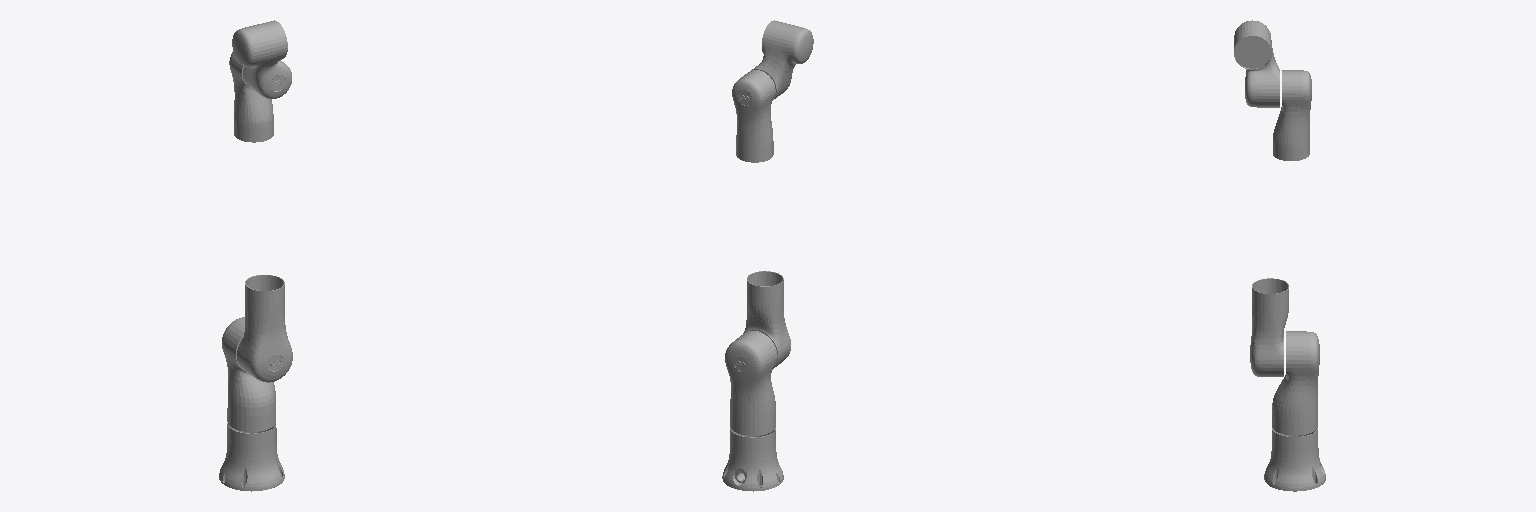
The robot description file, URDF, robot "A02L-MP":
<?xml version="1.0"?>
<!-- ======================================================================== -->
<!-- | Flexiv Rizon4 Arm (with approximated dynamic parameters)             | -->
<!-- ======================================================================== -->
<robot name="A02L-MP">
  <joint name="joint1" type="revolute">
    <parent link="base_link" />
    <child link="link1" />
    <origin rpy="0 0 3.141592653589793" xyz="0.0 0.0 0.155" />
    <axis xyz="0 0 1" />
    <limit effort="123" lower="-2.7925" upper="2.7925" velocity="2.0944" />
  </joint>
  <joint name="joint2" type="revolute">
    <parent link="link1" />
    <child link="link2" />
    <origin rpy="0 0 0" xyz="0.0 0.03 0.210" />
    <axis xyz="0 1 0" />
    <limit effort="123" lower="-2.2689" upper="2.2689" velocity="2.0944" />
  </joint>
  <joint name="joint3" type="revolute">
    <parent link="link2" />
    <child link="link3" />
    <origin rpy="0 0 0" xyz="0.0 0.035 0.205" />
    <axis xyz="0 0 1" />
    <limit effort="64" lower="-2.9671" upper="2.9671" velocity="2.4435" />
  </joint>
  <joint name="joint4" type="revolute">
    <parent link="link3" />
    <child link="link4" />
    <origin rpy="0 0 -3.141592653589793" xyz="-0.02 -0.03 0.19" />
    <axis xyz="0 1 0" />
    <limit effort="64" lower="-1.8675" upper="2.6878" velocity="2.4435" />
  </joint>
  <joint name="joint5" type="revolute">
    <parent link="link4" />
    <child link="link5" />
    <origin rpy="0 0 -3.141592653589793" xyz="-0.02 0.025 0.195" />
    <axis xyz="0 0 1" />
    <limit effort="39" lower="-2.9671" upper="2.9671" velocity="4.8869" />
  </joint>
  <joint name="joint6" type="revolute">
    <parent link="link5" />
    <child link="link6" />
    <origin rpy="0 0 0" xyz="0.0 0.03 0.19" />
    <axis xyz="0 1 0" />
    <limit effort="39" lower="-1.3963" upper="4.5379" velocity="4.8869" />
  </joint>
  <joint name="joint7" type="revolute">
    <parent link="link6" />
    <child link="link7" />
    <origin rpy="0 -1.5707963267948966 0" xyz="-0.055 0.070 0.11" />
    <axis xyz="0 0 1" />
    <limit effort="39" lower="-2.9671" upper="2.9671" velocity="4.8869" />
  </joint>
  <joint name="link7_to_flange" type="fixed">
    <parent link="link7" />
    <child link="flange" />
    <origin rpy="0 0 -3.141592653589793" xyz="0.0 0.0 0.081" />
  </joint>

  <link name="base_link">
    <inertial>
      <mass value="3.7" />
      <origin rpy="0 0 0" xyz="0.0 -0.0 0.09" />
      <inertia ixx="0.019" ixy="0.0" ixz="0.0" iyy="0.02" iyz="0.0" izz="0.009" />
    </inertial>
    <visual>
      <origin rpy="0 0 0" xyz="0 0 0" />
      <geometry>
        <mesh filename="meshes/visual/link0.obj" />
      </geometry>
      <material name="rizon_light_grey" />
    </visual>
    <collision>
      <origin rpy="0 0 0" xyz="0 0 0" />
      <geometry>
        <mesh filename="meshes/collision/link0.stl" />
      </geometry>
    </collision>
  </link>
  <link name="link1">
    <inertial>
      <mass value="3.7" />
      <origin rpy="0 0 0" xyz="0.0 0.01 0.15" />
      <inertia ixx="0.028" ixy="0.0" ixz="0.0" iyy="0.027" iyz="0.002" izz="0.008" />
    </inertial>
    <visual>
      <origin rpy="0 0 0" xyz="0 0 0" />
      <geometry>
        <mesh filename="meshes/visual/link1.obj" />
      </geometry>
      <material name="rizon_light_grey" />
    </visual>
    <collision>
      <origin rpy="0 0 0" xyz="0 0 0" />
      <geometry>
        <mesh filename="meshes/collision/link1.stl" />
      </geometry>
    </collision>
  </link>
  <link name="link2">
    <inertial>
      <mass value="2.7" />
      <origin rpy="0 0 0" xyz="0.0 0.04 0.1" />
      <inertia ixx="0.023" ixy="0.0" ixz="0.0" iyy="0.024" iyz="-0.0" izz="0.004" />
    </inertial>
    <visual>
      <origin rpy="0 0 0" xyz="0 0 0" />
      <geometry>
        <mesh filename="meshes/visual/link2.obj" />
      </geometry>
      <material name="rizon_light_grey" />
    </visual>
    <collision>
      <origin rpy="0 0 0" xyz="0 0 0" />
      <geometry>
        <mesh filename="meshes/collision/link2.stl" />
      </geometry>
    </collision>
  </link>
  <link name="link3">
    <inertial>
      <mass value="2.4" />
      <origin rpy="0 0 0" xyz="-0.01 -0.0 0.13" />
      <inertia ixx="0.014" ixy="0.0" ixz="-0.001" iyy="0.014" iyz="-0.001" izz="0.004" />
    </inertial>
    <visual>
      <origin rpy="0 0 0" xyz="0 0 0" />
      <geometry>
        <mesh filename="meshes/visual/link3.obj" />
      </geometry>
      <material name="rizon_light_grey" />
    </visual>
    <collision>
      <origin rpy="0 0 0" xyz="0 0 0" />
      <geometry>
        <mesh filename="meshes/collision/link3.stl" />
      </geometry>
    </collision>
  </link>
  <link name="link4">
    <inertial>
      <mass value="2.4" />
      <origin rpy="0 0 0" xyz="-0.01 0.03 0.1" />
      <inertia ixx="0.018" ixy="0.0" ixz="-0.002" iyy="0.019" iyz="-0.001" izz="0.003" />
    </inertial>
    <visual>
      <origin rpy="0 0 0" xyz="0 0 0" />
      <geometry>
        <mesh filename="meshes/visual/link4.obj" />
      </geometry>
      <material name="rizon_light_grey" />
    </visual>
    <collision>
      <origin rpy="0 0 0" xyz="0 0 0" />
      <geometry>
        <mesh filename="meshes/collision/link4.stl" />
      </geometry>
    </collision>
  </link>
  <link name="link5">
    <inertial>
      <mass value="2.4" />
      <origin rpy="0 0 0" xyz="0.0 0.0 0.13" />
      <inertia ixx="0.014" ixy="0.0" ixz="0.0" iyy="0.013" iyz="0.001" izz="0.004" />
    </inertial>
    <visual>
      <origin rpy="0 0 0" xyz="0 0 0" />
      <geometry>
        <mesh filename="meshes/visual/link5.obj" />
      </geometry>
      <material name="rizon_light_grey" />
    </visual>
    <collision>
      <origin rpy="0 0 0" xyz="0 0 0" />
      <geometry>
        <mesh filename="meshes/collision/link5.stl" />
      </geometry>
    </collision>
  </link>
  <link name="link6">
    <inertial>
      <mass value="2.1" />
      <origin rpy="0 0 0" xyz="-0.01 0.06 0.07" />
      <inertia ixx="0.008" ixy="-0.0" ixz="-0.001" iyy="0.009" iyz="0.002" izz="0.004" />
    </inertial>
    <visual>
      <origin rpy="0 0 0" xyz="0 0 0" />
      <geometry>
        <mesh filename="meshes/visual/link6.obj" />
      </geometry>
      <material name="rizon_light_grey" />
    </visual>
    <collision>
      <origin rpy="0 0 0" xyz="0 0 0" />
      <geometry>
        <mesh filename="meshes/collision/link6.stl" />
      </geometry>
    </collision>
  </link>
  <link name="link7">
    <inertial>
      <mass value="0.8" />
      <origin rpy="0 0 0" xyz="0.0 0.0 0.03" />
      <inertia ixx="0.001" ixy="0.0" ixz="0.0" iyy="0.001" iyz="0.0" izz="0.001" />
    </inertial>
    <visual>
      <origin rpy="0 0 0" xyz="0 0 0" />
      <geometry>
        <mesh filename="meshes/visual/link7.obj" />
      </geometry>
      <material name="rizon_light_grey" />
    </visual>
    <collision>
      <origin rpy="0 0 0" xyz="0 0 0" />
      <geometry>
        <mesh filename="meshes/collision/link7.stl" />
      </geometry>
    </collision>
  </link>
  <link name="flange" />
  <!-- Robotiq 2F-85 tool center: flange → 指尖中心 -->
  <!-- Z 偏移 0.16m 是 Robotiq 从安装面到指尖中心的近似距离 -->
  <!-- 注意 flange 的 rpy 有 π 旋转, 所以实际方向需要考虑 -->
  <joint name="flange_to_tool_center" type="fixed">
    <parent link="flange" />
    <child link="tool_center" />
    <origin rpy="0 0 0" xyz="0.0 0.0 0.15" />
  </joint>
  <link name="tool_center" />
  <material name="rizon_blue">
    <color rgba="0. 0. 1. 0.5" />
  </material>
  <material name="rizon_light_grey">
    <color rgba="0.7 0.7 0.7 1" />
  </material>
  <material name="rizon_dark_grey">
    <color rgba="0.2 0.2 0.2 1" />
  </material>
  <material name="rizon_white">
    <color rgba="1 1 1 1" />
  </material>
</robot>

--- What the picture shows (computed from the rendered views, not written in the file) ---
The picture shows the robot from 3 angles, left to right: view 1: azimuth 30°, elevation 25°; view 2: azimuth 150°, elevation 25°; view 3: azimuth 270°, elevation 25°; orthographic projection.
Robot: A02L-MP — 10 links, 9 joints (7 revolute, 2 fixed); root link base_link; default pose: all joints at 0.
Links seen in each view (by area): view 1: link2, link6, link1, base_link, link5; view 2: link1, link5, base_link, link2, link6; view 3: link1, link2, link6, base_link, link5.
Link boxes in pixels (x1,y1,x2,y2): link2: [237, 275, 292, 382]; link6: [232, 20, 291, 98]; link1: [222, 317, 275, 431]; base_link: [219, 423, 284, 491]; link5: [229, 52, 273, 142]; link1: [725, 331, 777, 435]; link5: [732, 70, 775, 162]; base_link: [722, 428, 783, 491]; link2: [743, 271, 790, 368]; link6: [751, 20, 813, 99]; link1: [1272, 331, 1319, 435]; link2: [1250, 278, 1288, 376]; link6: [1234, 20, 1279, 107]; base_link: [1264, 428, 1325, 491]; link5: [1273, 70, 1311, 160].
Bounding box of the posed robot: 0.188 × 0.2454 × 1.3 m (x, y, z).
5 mesh visuals loaded from 8 distinct referenced files (5 OBJ); not drawn: 3 (reference not matched to a file when rendering).
